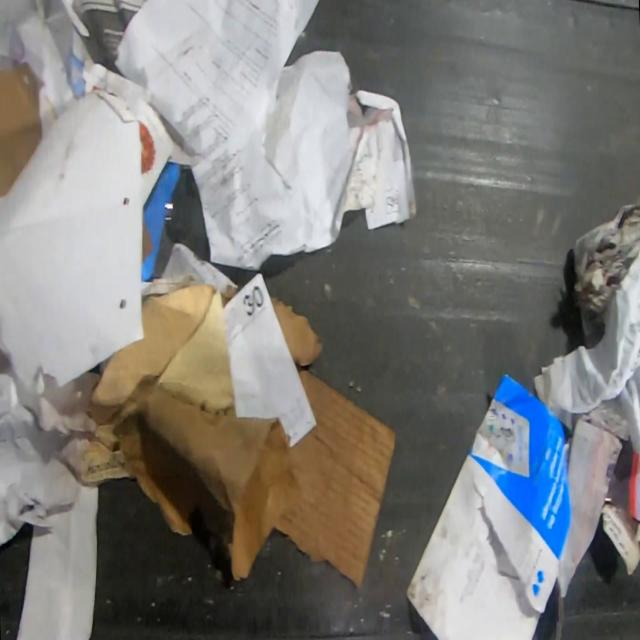cardboard: (76, 279, 236, 486), (274, 365, 397, 591), (0, 61, 45, 198), (142, 161, 184, 282)
rigid_plastic: (162, 184, 192, 245)
